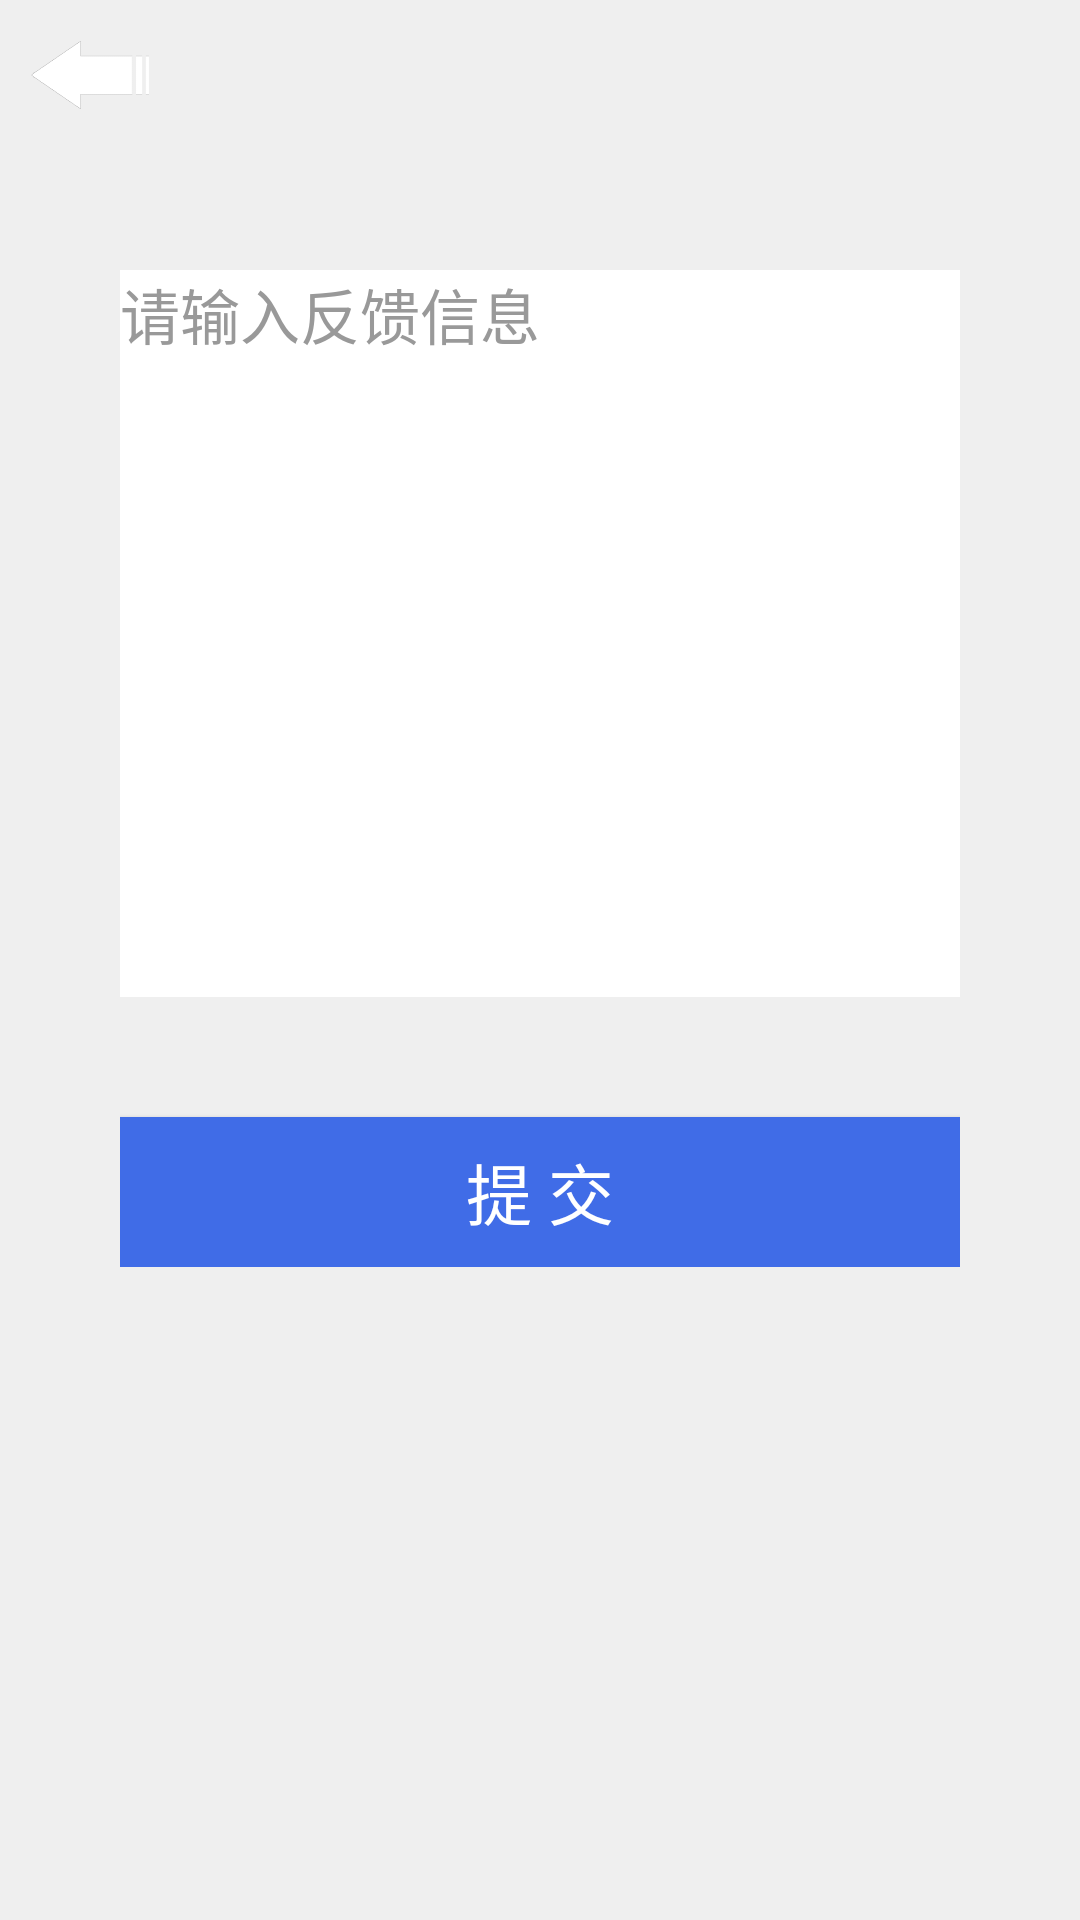

Named icons in this screenshot (1080 × 1920) and their bounding boxes, (x1, y1, x2, y2):
back: (33, 41, 81, 109)
